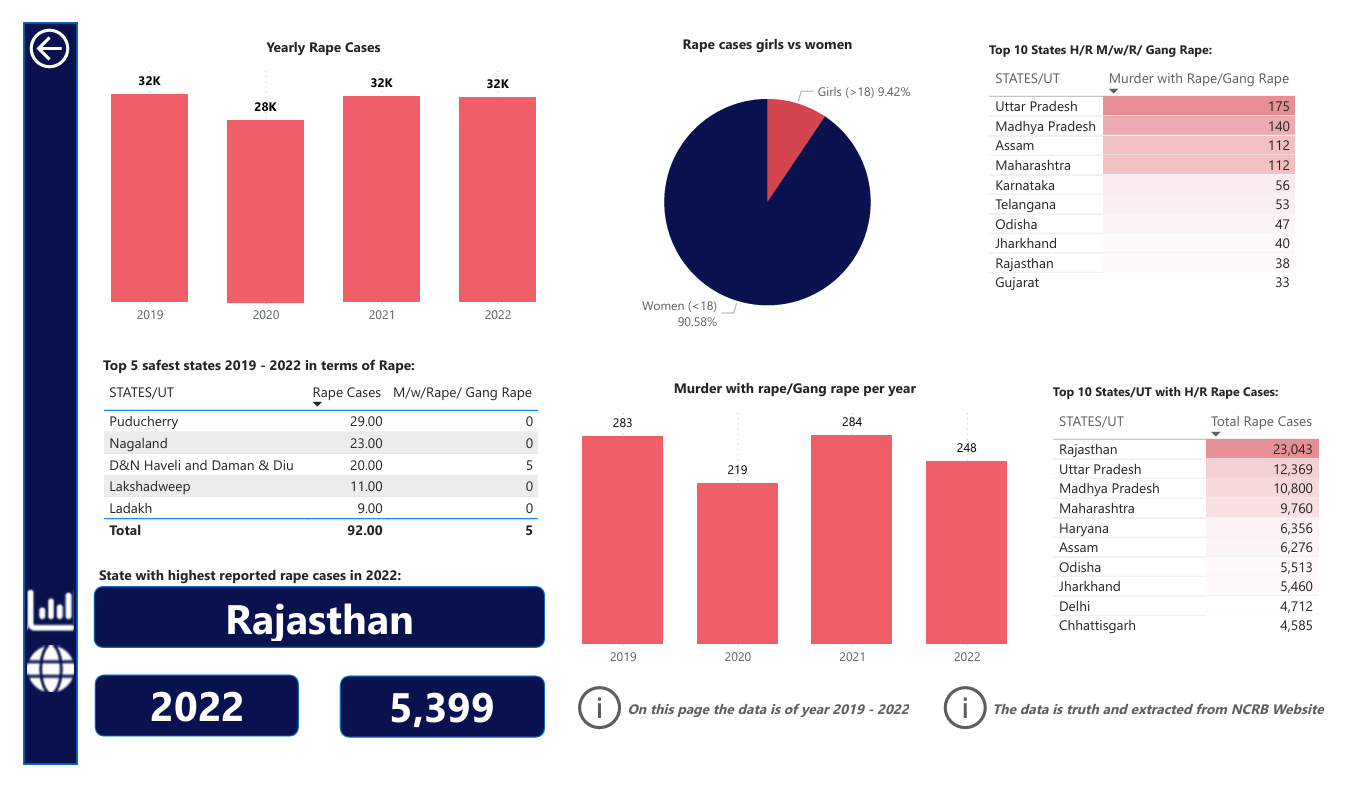

The dashboard page shown, as its layout file describes it:
{"tool":"powerbi","page":{"name":"Total Rape Cases","canvas":[1280,720],"ordinal":1},"visuals":[{"type":"shape","box":[0,0,52.2,720.3],"z":0},{"type":"columnChart","title":"Yearly Rape Cases","fields":{"Category":["calendar.year"],"Y":["Table.total rape"]},"box":[72.1,13.7,437.9,287.4],"z":1000},{"type":"shape","box":[68.2,547.3,437.9,59.7],"z":2000},{"type":"card","fields":{"Values":["Min(combined_rape.STATES/UT)"]},"box":[69.4,549.8,436.6,54.7],"z":3000},{"type":"textbox","box":[68.2,522.5,440.4,27.4],"z":4000},{"type":"shape","box":[307,634.4,199,59.7],"z":5000},{"type":"shape","box":[69.4,633.2,197.8,59.7],"z":6000},{"type":"card","fields":{"Values":["Max(calendar.year)"]},"box":[70.7,633.2,196.5,57.2],"z":7000},{"type":"card","fields":{"Values":["Sum(combined_rape.Total Rape (I))"]},"box":[310.7,634.4,190.3,57.2],"z":8000},{"type":"tableEx","fields":{"Values":["combined_gang_rape.STATES/UT","Sum(combined_gang_rape.murder with rape/ gang rape (I))"]},"box":[931.7,39.8,334.6,278.6],"z":9000},{"type":"tableEx","fields":{"Values":["combined_gang_rape.STATES/UT","Sum(combined_rape.Total Rape (I))"]},"box":[993.9,373.2,279.9,241.3],"z":10000},{"type":"textbox","box":[931.7,11.2,238.8,28.6],"z":11000},{"type":"textbox","box":[993.9,343.3,230.1,28.6],"z":12000},{"type":"pieChart","title":"Rape cases girls vs women","fields":{"Y":["Sum(combined_rape.Rape Girls (Below 18 yrs) (I))","Sum(combined_rape.Rape women (18 yrs above) (I))"]},"box":[532.4,12.4,379.4,306],"z":13000},{"type":"columnChart","title":"Murder with rape/Gang rape per year","fields":{"Category":["combined_gang_rape.year"],"Y":["Sum(combined_gang_rape.murder with rape/ gang rape (I))"]},"box":[532.4,345.8,432.9,287.4],"z":14000},{"type":"actionButton","box":[532.4,638.2,330.9,53.5],"z":15000},{"type":"actionButton","box":[886.9,638.2,379.4,53.5],"z":16000},{"type":"tableEx","fields":{"Values":["combined_rape.STATES/UT","Sum(combined_rape.Total Rape (I))","Sum(combined_gang_rape.murder with rape/ gang rape (I))"]},"box":[72.1,343.3,437.9,170.4],"z":17000},{"type":"textbox","box":[72.1,318.5,334.6,29.9],"z":18000},{"type":"actionButton","box":[0,597.5,52.5,58.8],"z":19000},{"type":"actionButton","box":[0,542.5,52.5,55],"z":20000},{"type":"actionButton","box":[0,0,68.8,50],"z":21000}]}

Visuals, with their boxes in screenshot pixels (x1, y1, x2, y2), scaled from the page's 1280x720 canvas onto the 1363x786 screenshot:
shape: x1=0 y1=0 x2=56 y2=785
"Yearly Rape Cases" columnChart: x1=77 y1=15 x2=543 y2=329
shape: x1=73 y1=597 x2=539 y2=663
card - Min(combined_rape.STATES/UT): x1=74 y1=600 x2=539 y2=660
textbox: x1=73 y1=570 x2=542 y2=600
shape: x1=327 y1=693 x2=539 y2=758
shape: x1=74 y1=691 x2=285 y2=756
card - Max(calendar.year): x1=75 y1=691 x2=285 y2=754
card - Sum(combined_rape.Total Rape (I)): x1=331 y1=693 x2=533 y2=755
tableEx - combined_gang_rape.STATES/UT x Sum(combined_gang_rape.murder with rape/ gang rape (I)): x1=992 y1=43 x2=1348 y2=348
tableEx - combined_gang_rape.STATES/UT x Sum(combined_rape.Total Rape (I)): x1=1058 y1=407 x2=1356 y2=671
textbox: x1=992 y1=12 x2=1246 y2=43
textbox: x1=1058 y1=375 x2=1303 y2=406
"Rape cases girls vs women" pieChart: x1=567 y1=14 x2=971 y2=348
"Murder with rape/Gang rape per year" columnChart: x1=567 y1=377 x2=1028 y2=691
actionButton: x1=567 y1=697 x2=919 y2=755
actionButton: x1=944 y1=697 x2=1348 y2=755
tableEx - combined_rape.STATES/UT x Sum(combined_rape.Total Rape (I)): x1=77 y1=375 x2=543 y2=561
textbox: x1=77 y1=348 x2=433 y2=380
actionButton: x1=0 y1=652 x2=56 y2=716
actionButton: x1=0 y1=592 x2=56 y2=652
actionButton: x1=0 y1=0 x2=73 y2=55
